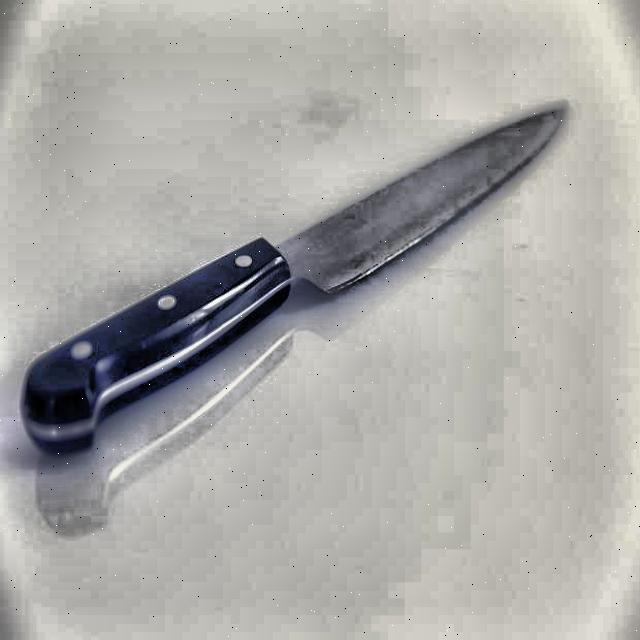knife: (22, 90, 576, 455)
